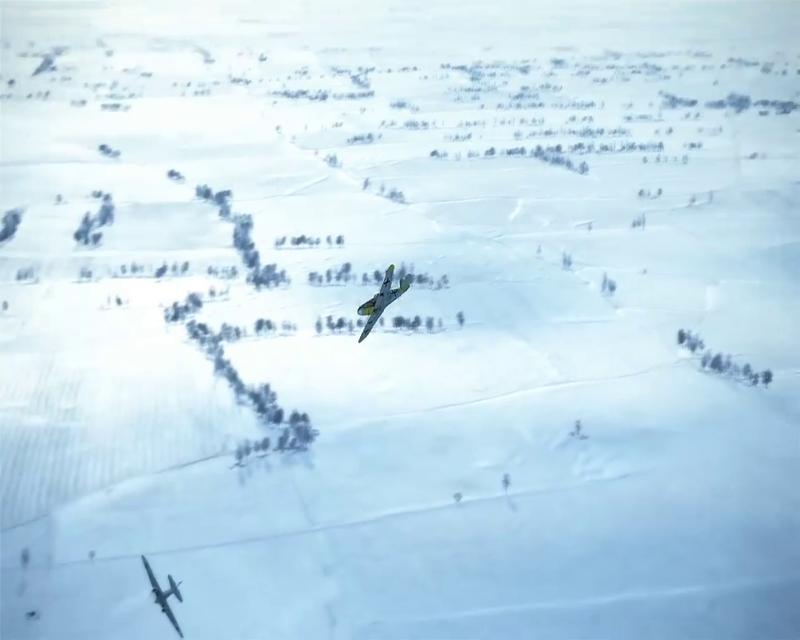UAV: (354, 264, 412, 343), (141, 552, 186, 638)
